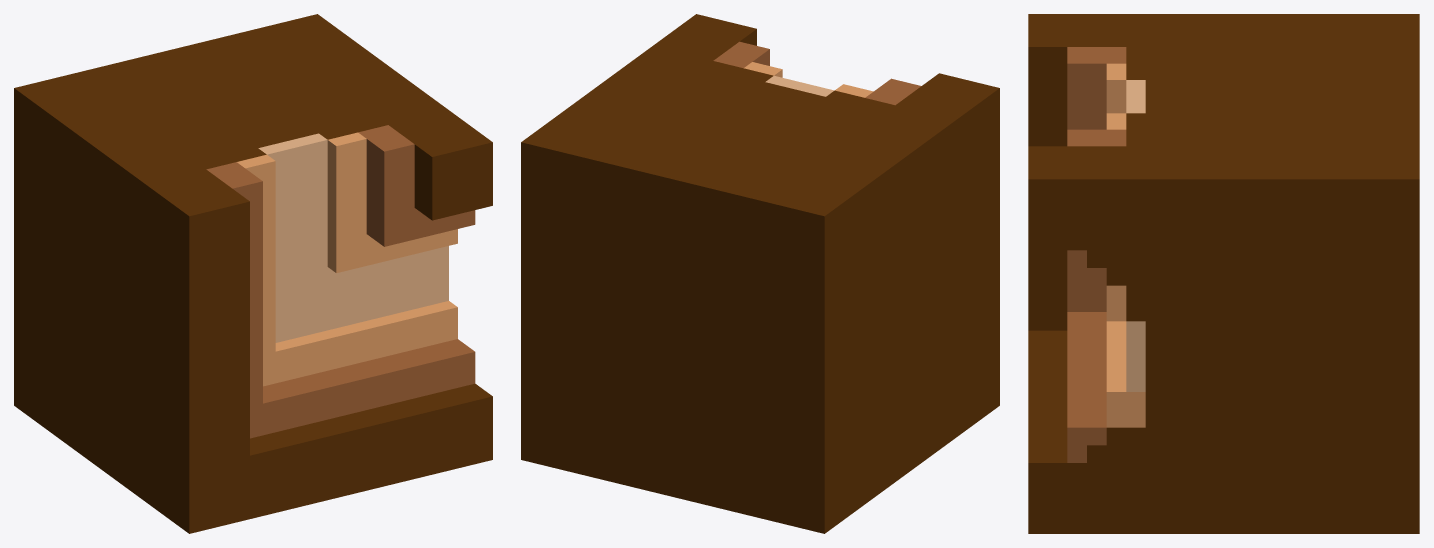
File: FrameConer.obj
3 renders of one model, left to right at view 1: azimuth 30°, elevation 25°; view 2: azimuth 150°, elevation 25°; view 3: azimuth 270°, elevation 25°, orthographic. The views are drawn at different scales.
Parts seen in each view (by area): view 1: Untitled; view 2: Untitled; view 3: Untitled.
Boxes of the visible parts, bbox=[...] form: Untitled: bbox=[14, 14, 492, 533]; Untitled: bbox=[521, 14, 999, 533]; Untitled: bbox=[1028, 14, 1419, 533].
Size of the model in its own units: 2 by 2 by 2.
